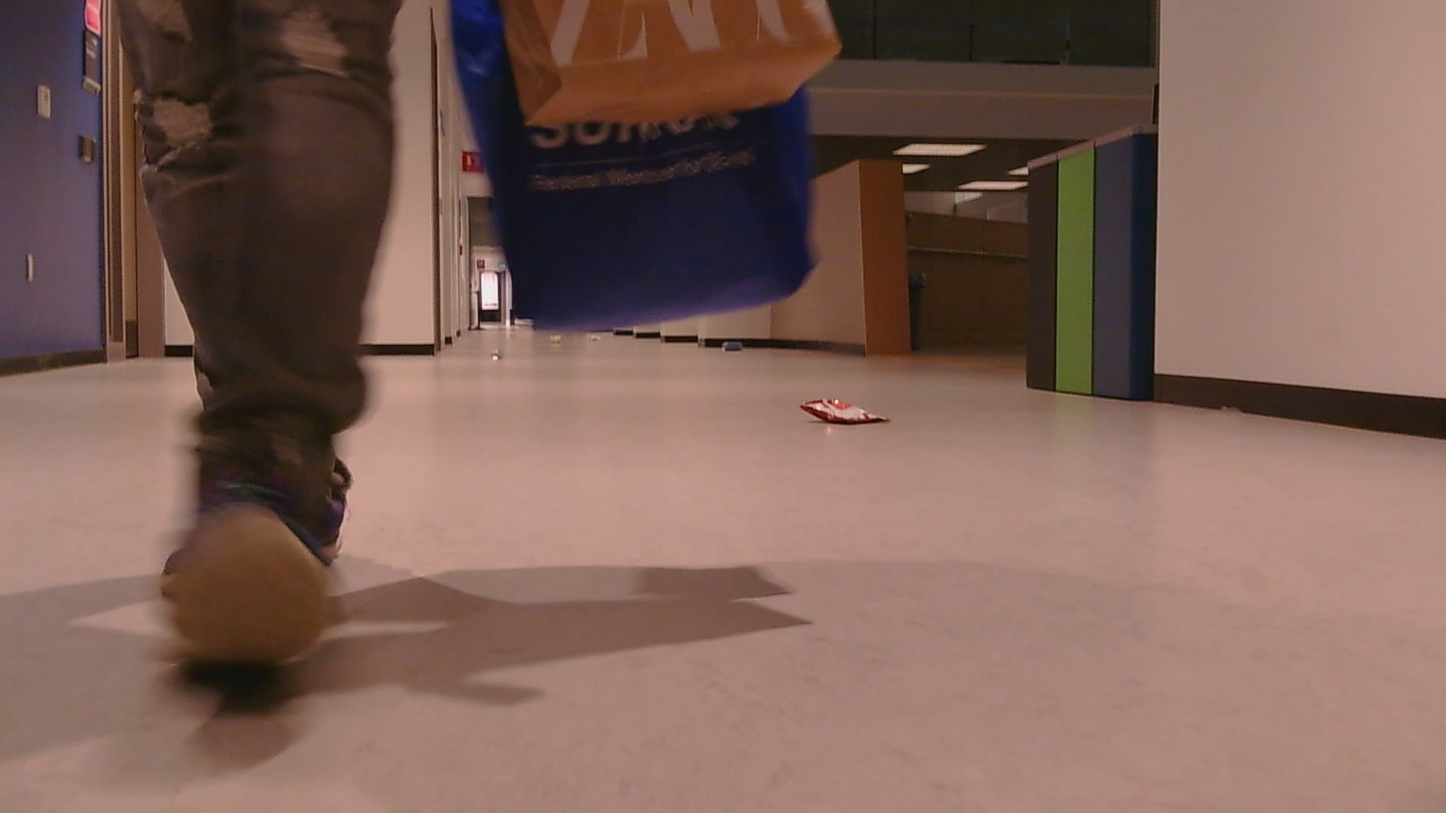carton: (797, 384, 911, 445)
